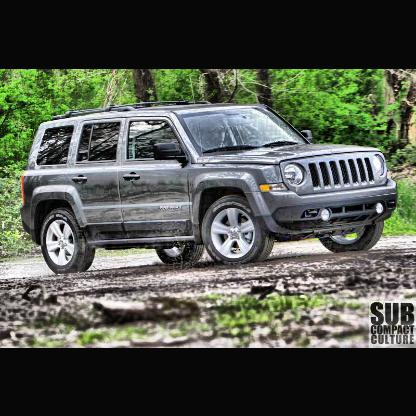Jeep Patriot SUV 2012: (20, 100, 401, 275)
